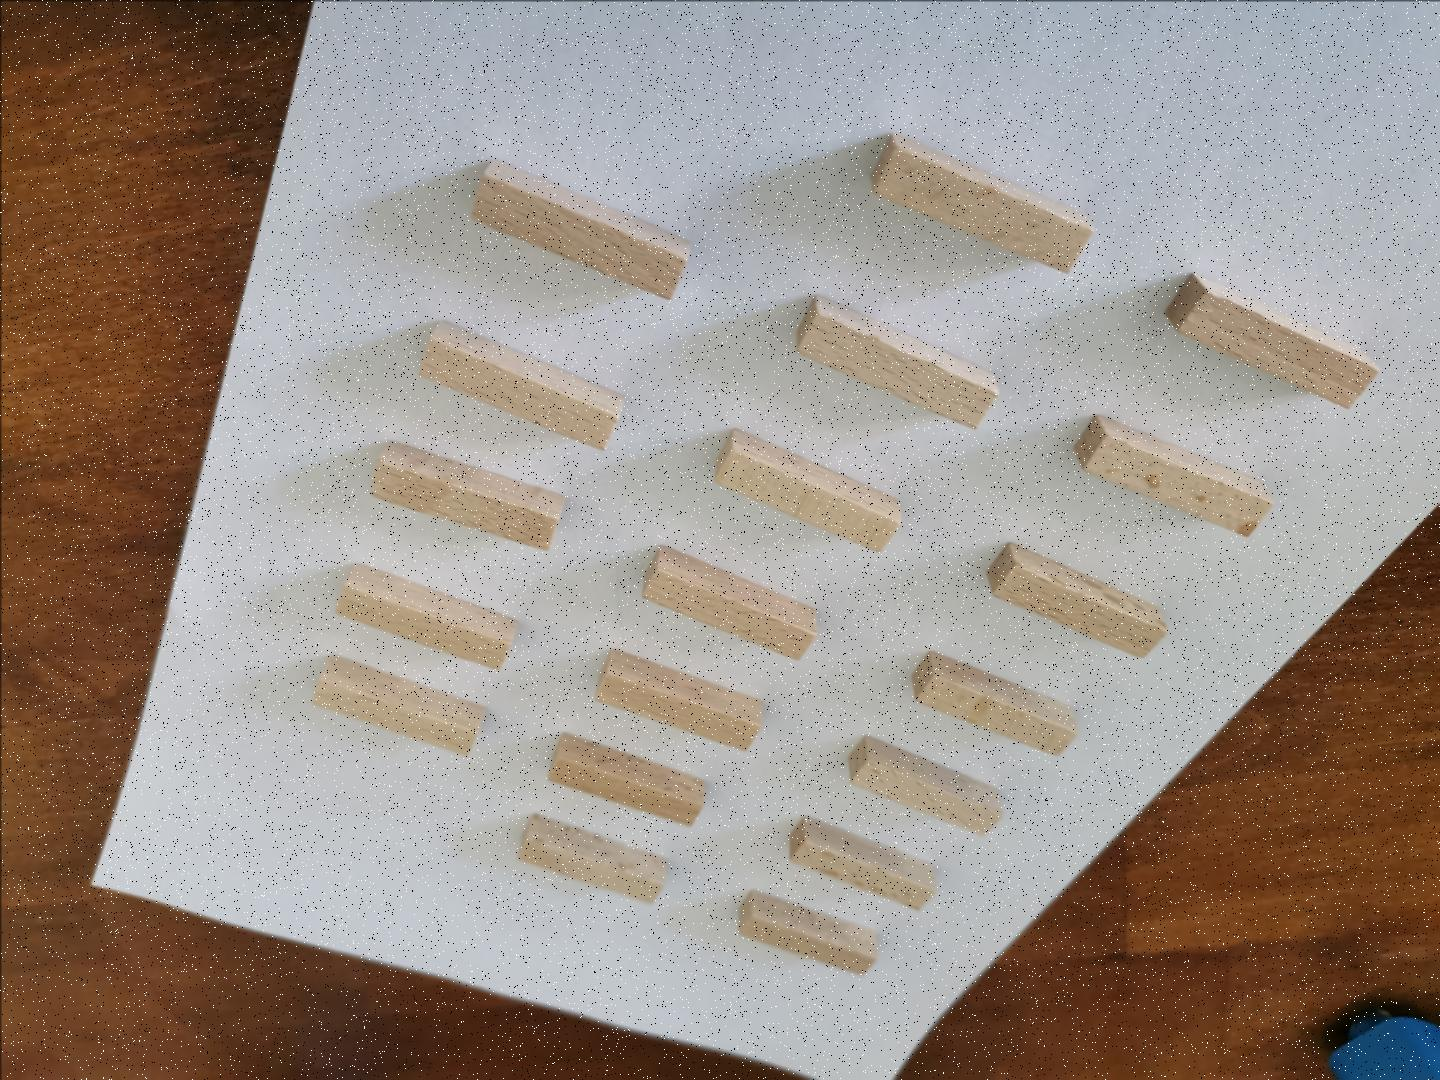jenga: (869, 135, 1091, 272), (469, 160, 689, 298), (1164, 272, 1378, 407), (796, 295, 999, 428), (420, 321, 621, 447), (1075, 416, 1271, 534), (714, 428, 900, 551), (371, 441, 562, 548), (988, 542, 1164, 656), (642, 546, 815, 658), (334, 563, 515, 669), (912, 650, 1077, 753), (593, 650, 762, 751), (312, 656, 484, 753), (849, 737, 1001, 833), (549, 734, 703, 824), (790, 816, 934, 909), (517, 816, 667, 903), (737, 892, 878, 973)
